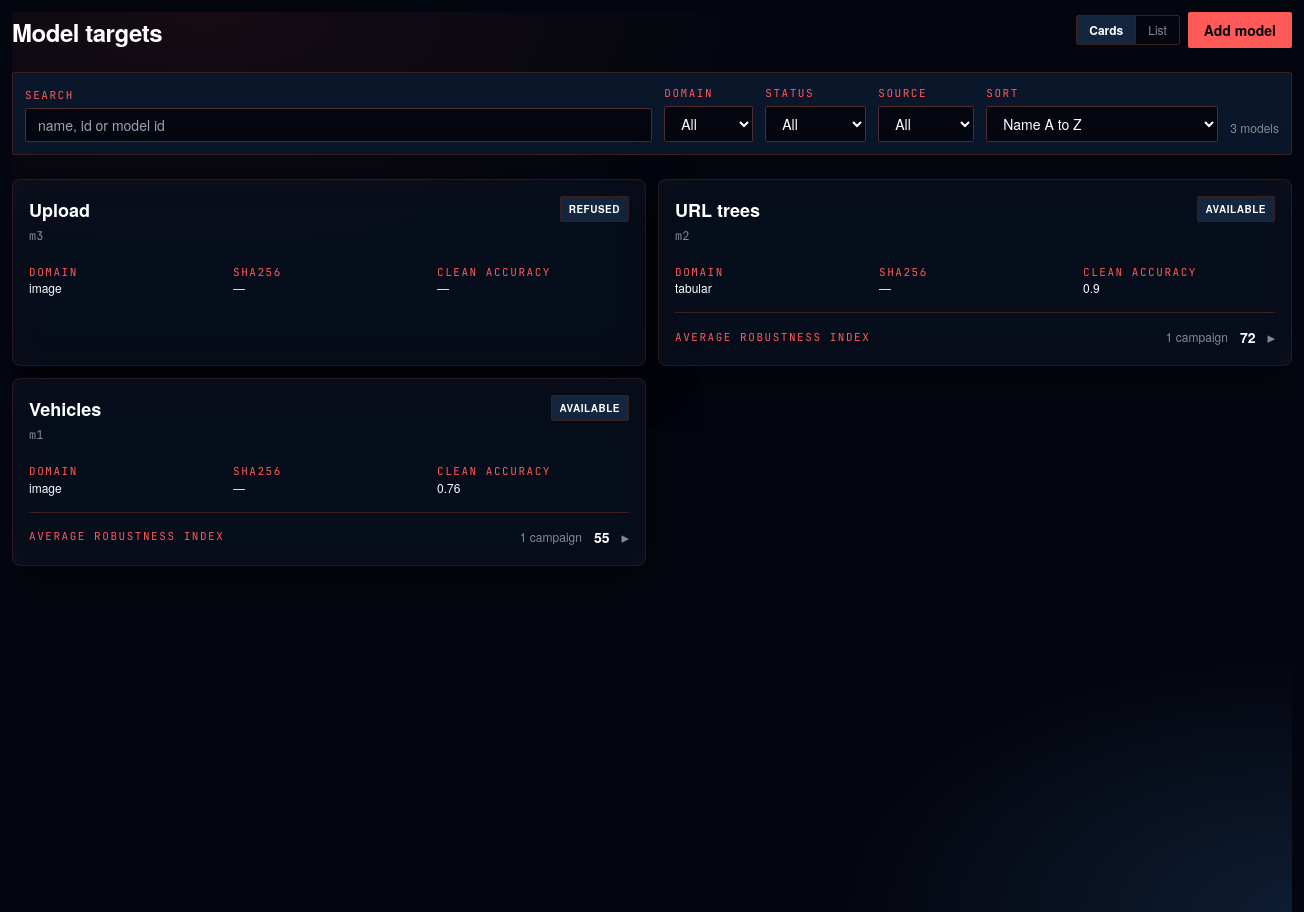
Test: /models › says when a numeric sort has too few values to reorder the rows
Select "Clean accuracy, high to low" in the dropdown labelled "sort" at (1102, 124), box x1=986 y1=106 x2=1218 y2=142
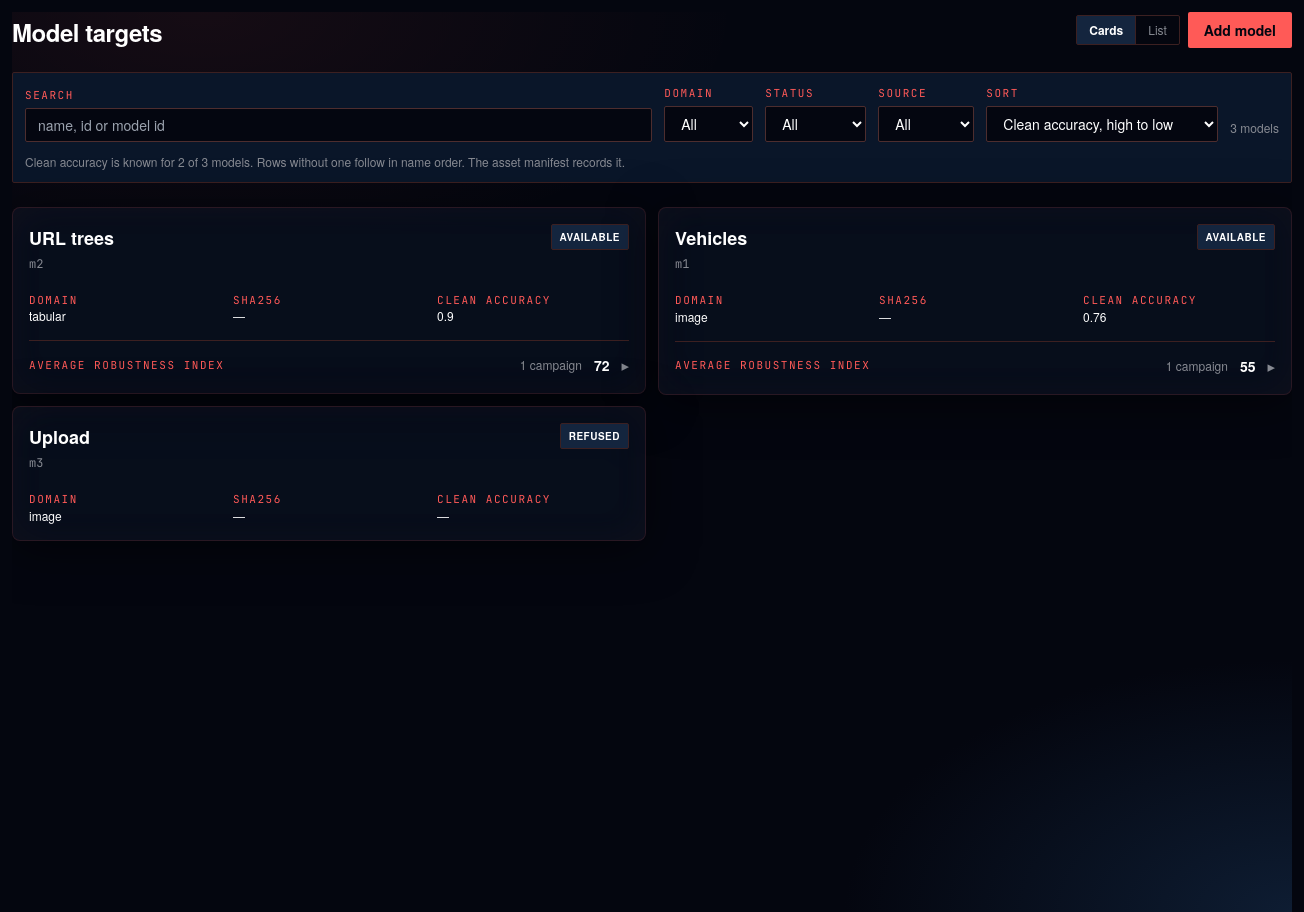
Expected: the message with test id "sort-coverage" shows "Clean accuracy is known for 2 of 3 models. Rows without one follow in name order. The asset manifest records it.", x1=25 y1=152 x2=625 y2=170
Note: Filter down to the one row without a metric: the note says nothing can move.
Select "refused" in the dropdown labelled "status" at (816, 124), box x1=765 y1=106 x2=866 y2=142
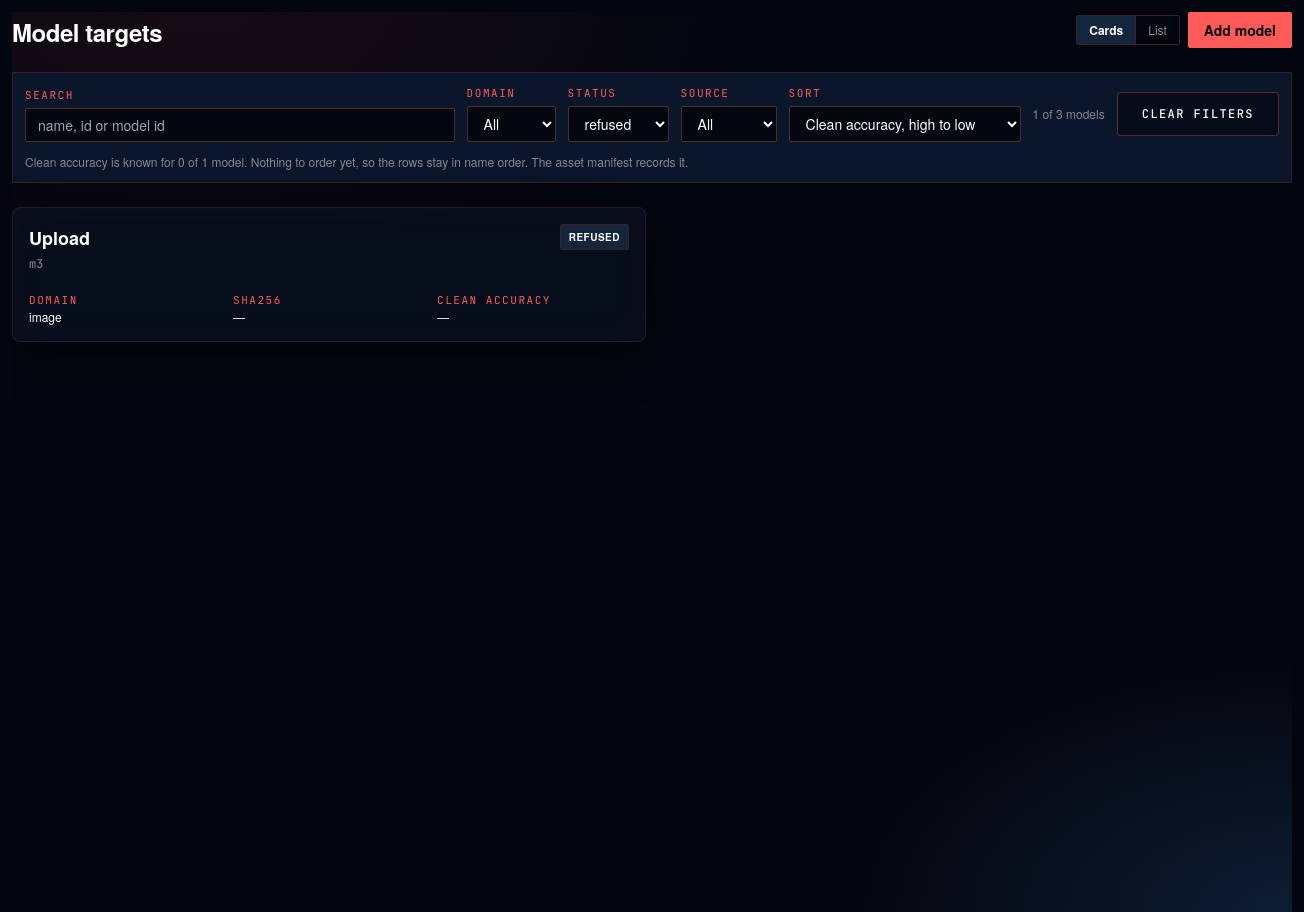
Expected: the message with test id "sort-coverage" shows "Clean accuracy is known for 0 of 1 model. Nothing to order yet", x1=25 y1=152 x2=688 y2=170
Select "Name A to Z" in the dropdown labelled "sort" at (905, 124), box x1=789 y1=106 x2=1021 y2=142
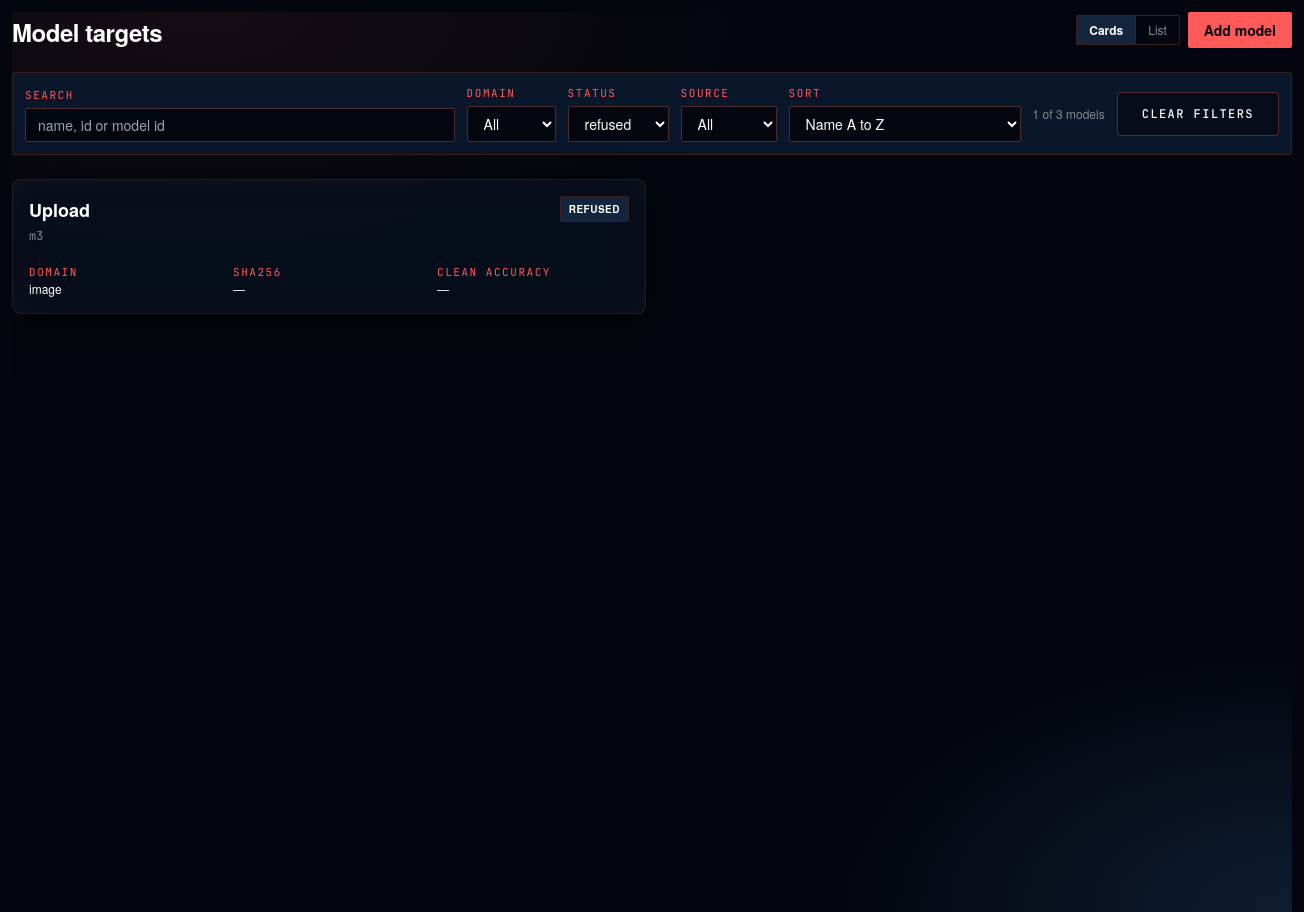
Expected: the message with test id "sort-coverage" is gone
